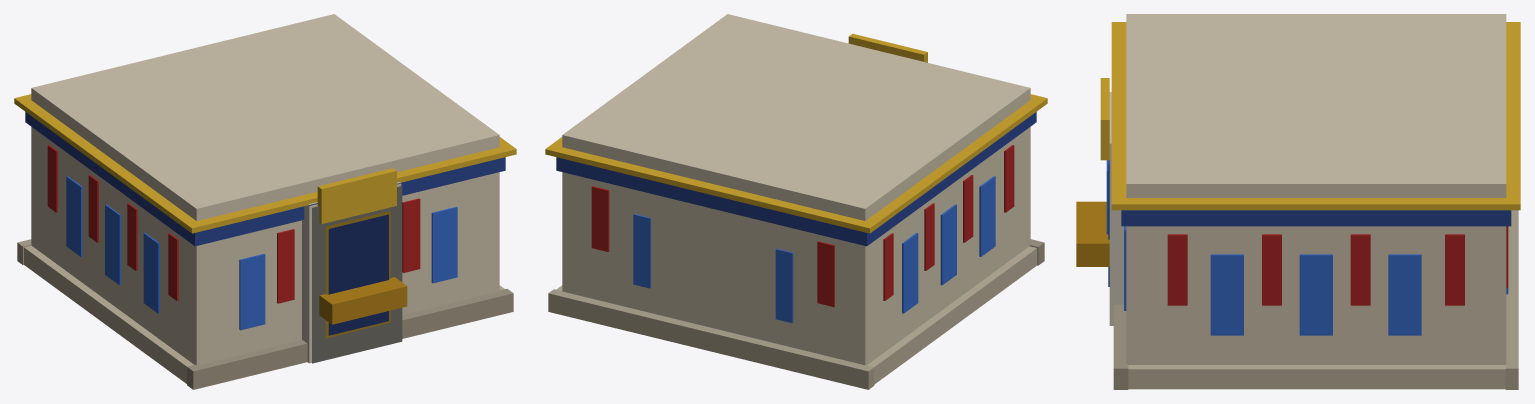
The model's file is GoldenThroneSil.fbx.
The picture shows the model from 3 angles, left to right: view 1: azimuth 30°, elevation 25°; view 2: azimuth 150°, elevation 25°; view 3: azimuth 270°, elevation 25°; orthographic projection. The views are drawn at different scales.
Parts seen in each view (by area): view 1: GT_S_All; view 2: GT_S_All; view 3: GT_S_All.
Boxes of the visible parts, x1,y1,x2,y2 form: GT_S_All: (14,14,516,389); GT_S_All: (545,14,1047,389); GT_S_All: (1076,14,1520,389).
Size of the model in its own units: 38.84 by 20 by 40.04.
